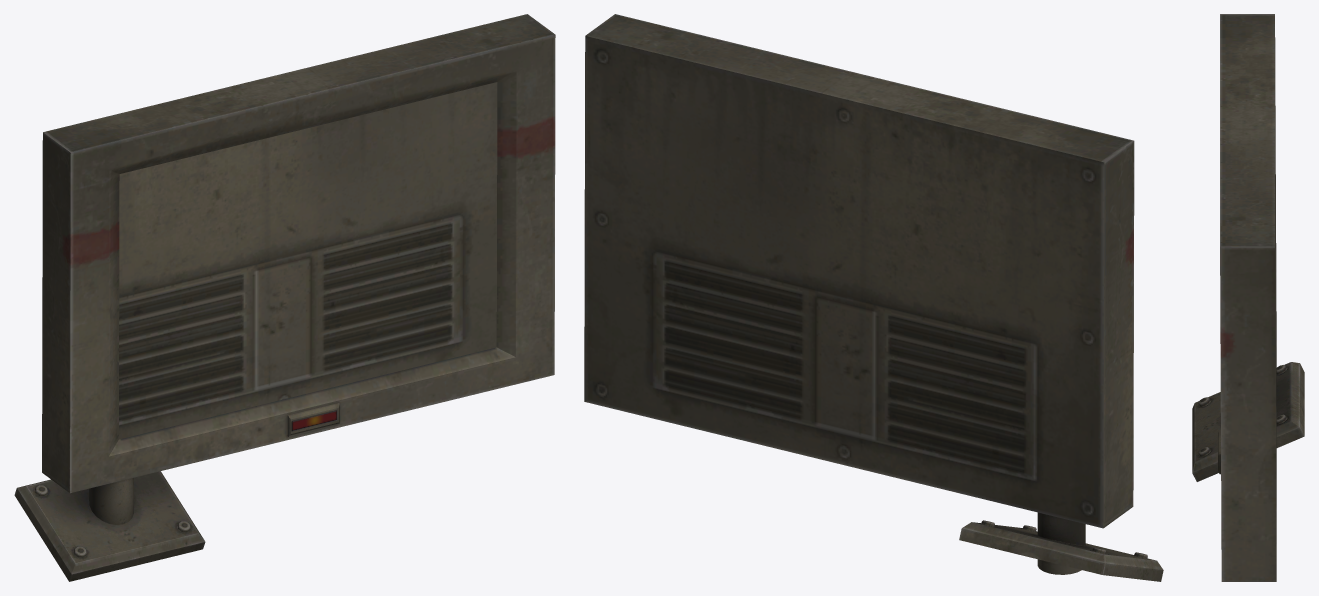
File: computer_table_flesher_sockets.DAE
The picture shows the model from 3 angles, left to right: view 1: azimuth 30°, elevation 25°; view 2: azimuth 150°, elevation 25°; view 3: azimuth 270°, elevation 25°; orthographic projection. The views are drawn at different scales.
Bounding box in the file's own units: 41.1 × 32.92 × 8.17.
